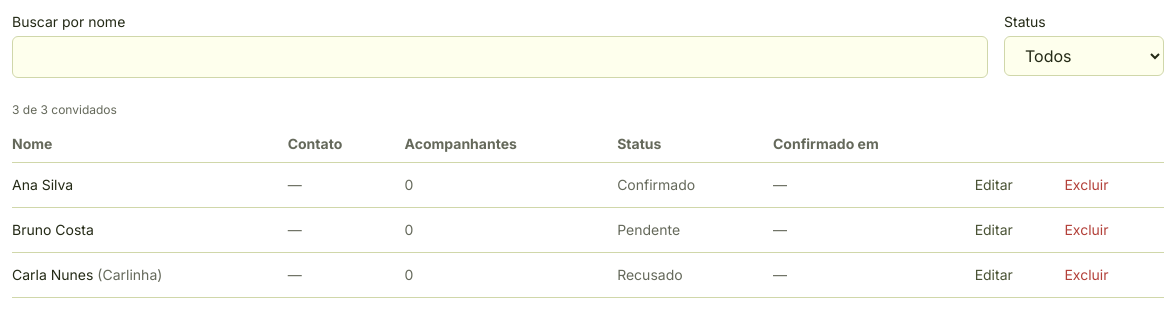
Test: GuestsTable › edits the companions count inline via double click, showing confirm and cancel controls
The width and height of the screenshot is (1176, 325).
Double-click the cell with test id "companions-count-1" at (409, 184), box [405,162,617,208]
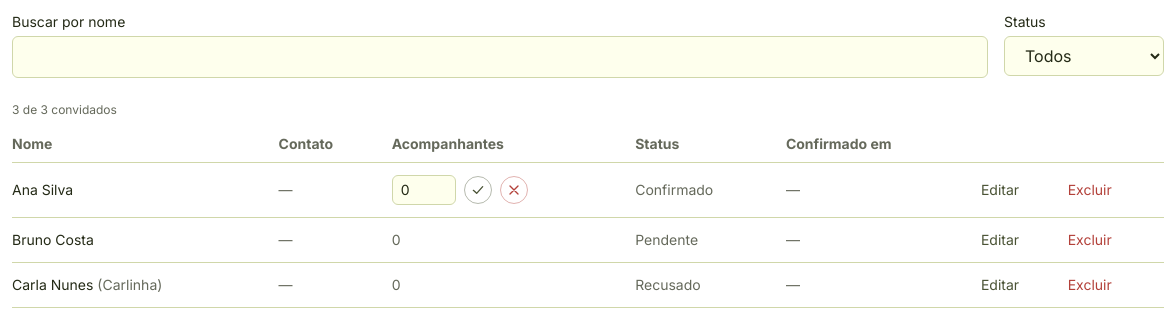
Now the number field named "editar acompanhantes de ana silva" holds "0", box [392,175,456,205]
Now the button named "salvar acompanhantes" is shown, box [464,176,492,204]
Now the button named "cancelar edição de acompanhantes" is shown, box [500,176,528,204]
